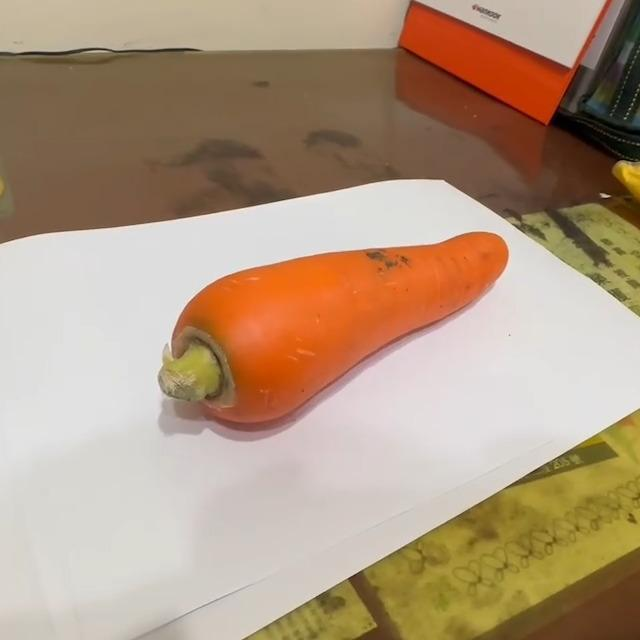carrot: (161, 229, 514, 427)
